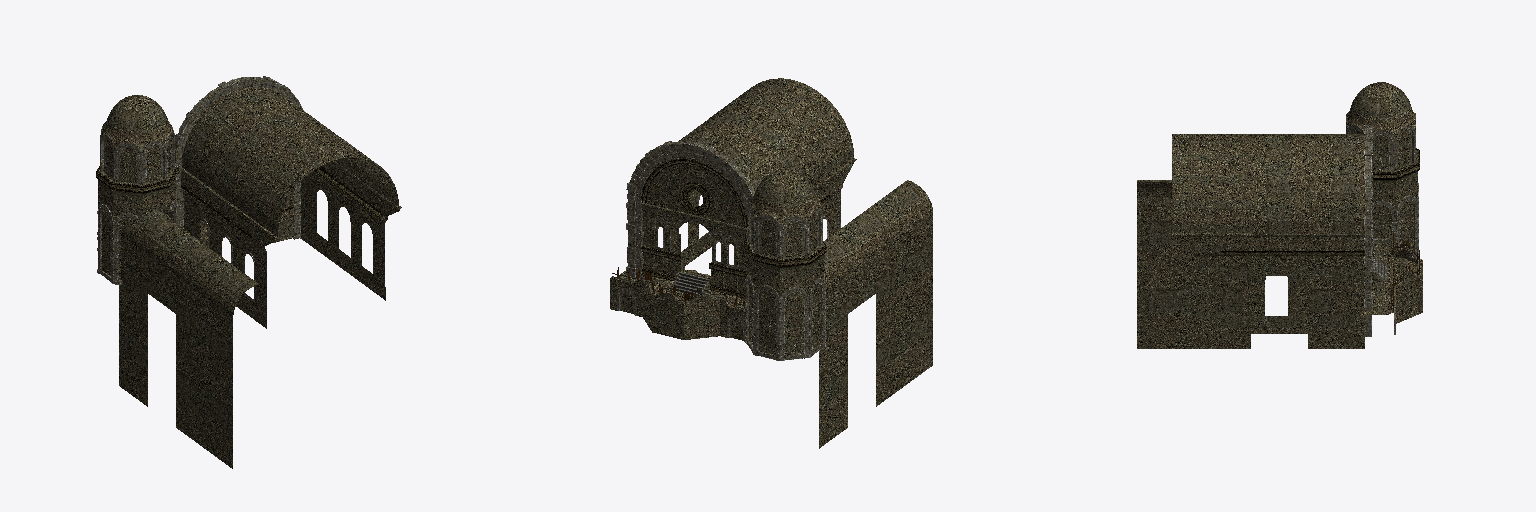
The picture shows the model from 3 angles: view 1: azimuth 30°, elevation 25°; view 2: azimuth 150°, elevation 25°; view 3: azimuth 270°, elevation 25°; orthographic projection.
Visible parts, largest first — view 1: mesh14, mesh10, mesh11, mesh8, mesh5, mesh12; view 2: mesh14, mesh10, mesh5, mesh11, mesh8, mesh12; view 3: mesh14, mesh10, mesh8, mesh11, mesh5, mesh12.
Boxes of the visible parts, box(x1,y1,x2,y2) form: mesh14: box(98, 95, 301, 468); mesh10: box(102, 87, 380, 279); mesh11: box(180, 161, 381, 318); mesh8: box(235, 128, 401, 328); mesh5: box(97, 76, 302, 301); mesh12: box(96, 166, 380, 240); mesh14: box(619, 169, 932, 448); mesh10: box(610, 108, 820, 355); mesh5: box(617, 141, 828, 360); mesh11: box(641, 164, 828, 299); mesh8: box(613, 78, 856, 308); mesh12: box(641, 157, 829, 298); mesh14: box(1137, 82, 1417, 348); mesh10: box(1253, 130, 1422, 323); mesh8: box(1172, 134, 1418, 333); mesh11: box(1221, 234, 1364, 333); mesh5: box(1346, 125, 1418, 336); mesh12: box(1221, 148, 1419, 255).
Size of the model in its own units: 23.38 by 30.49 by 28.48.
Materials: 15 (10 with a texture image).